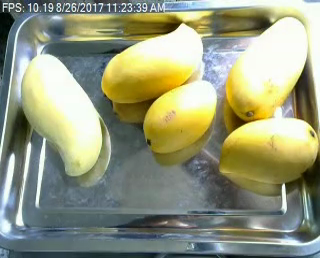Mango: (19, 55, 103, 176), (225, 17, 308, 120), (101, 23, 201, 102), (219, 117, 319, 185), (143, 80, 216, 152)
